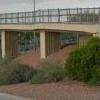Bridge: (5, 3, 99, 48)
